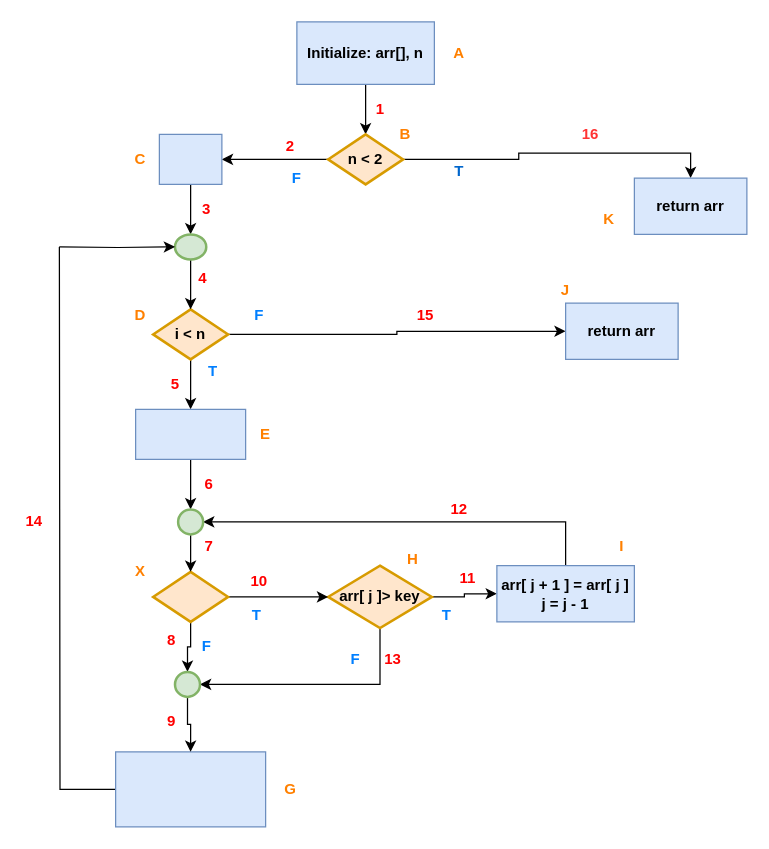
This 769x849 diagram has some shape labels left out. The centre of each missing label's shape, as x and y in pixels:
arr [ j + 1] = key i++: pixel 190 789
i = 1: pixel 190 158
j >= 0: pixel 190 596
key = arr[ i ] j = i - 1: pixel 190 433
